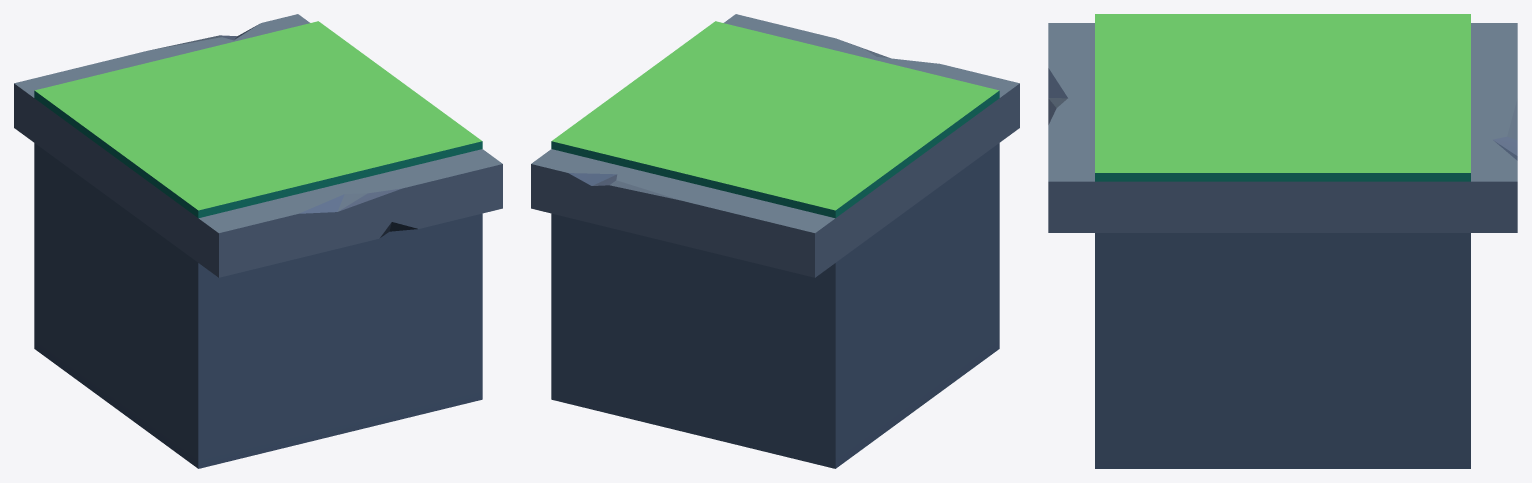
The model's file is Highland_Side_02.fbx.
The picture shows the model from 3 angles, left to right: view 1: azimuth 30°, elevation 25°; view 2: azimuth 150°, elevation 25°; view 3: azimuth 270°, elevation 25°; orthographic projection. The views are drawn at different scales.
Visible parts, largest first — view 1: Highland_Side_02; view 2: Highland_Side_02; view 3: Highland_Side_02.
Boxes of the visible parts, x1=… form: Highland_Side_02: x1=14, y1=14, x2=502, y2=468; Highland_Side_02: x1=531, y1=14, x2=1019, y2=468; Highland_Side_02: x1=1048, y1=14, x2=1517, y2=468.
Size of the model in its own units: 1.33 by 1.16 by 1.66.
